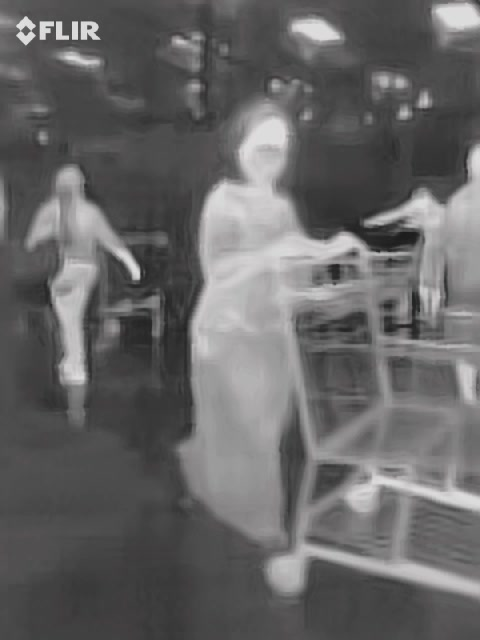head: (233, 99, 293, 187)
